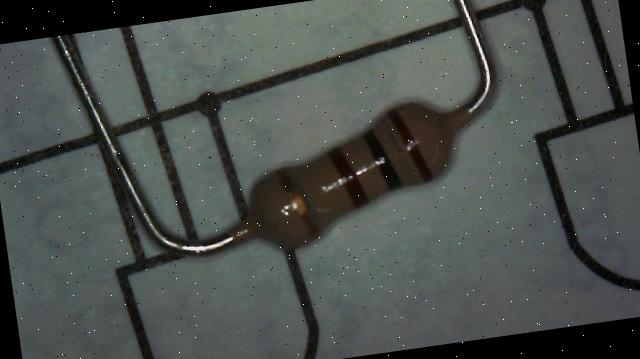black: (362, 125, 400, 192)
brown: (385, 100, 436, 186), (328, 143, 368, 208)
gold: (275, 163, 324, 245)
resistor: (192, 65, 511, 319)
